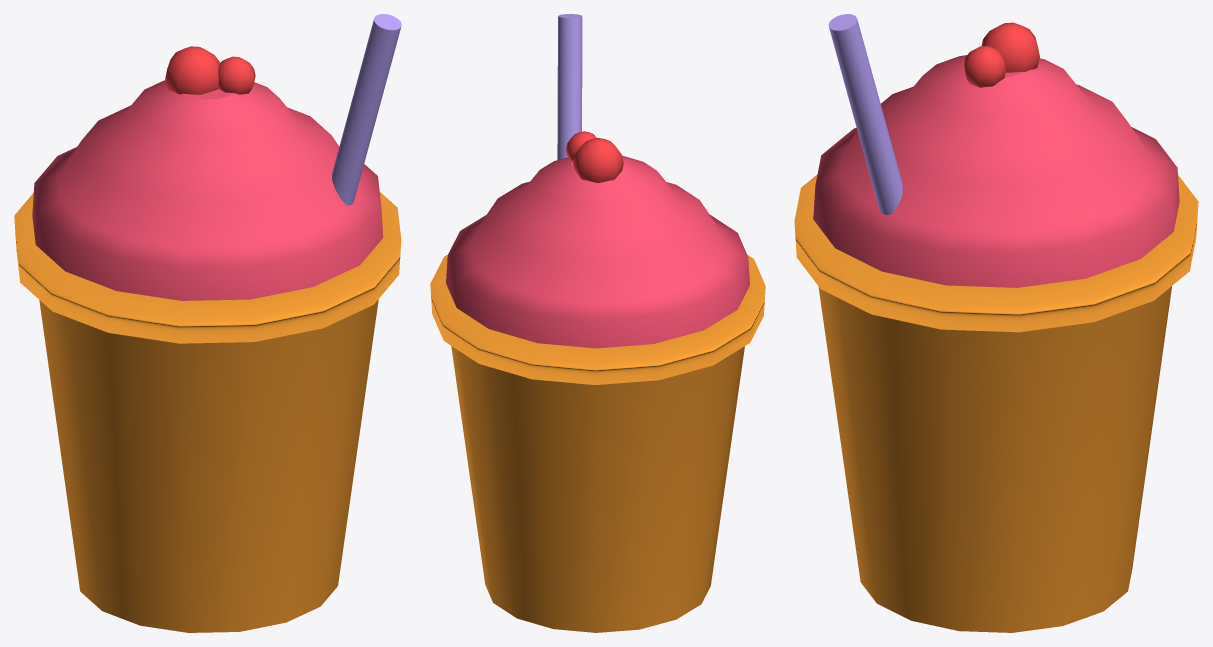
Rendered from ToyObject_175.fbx.
The picture shows the model from 3 angles, left to right: view 1: azimuth 30°, elevation 25°; view 2: azimuth 150°, elevation 25°; view 3: azimuth 270°, elevation 25°; orthographic projection. The views are drawn at different scales.
Parts seen in each view (by area): view 1: object-1.070; view 2: object-1.070; view 3: object-1.070.
Boxes of the visible parts, box(x1,y1,x2,y2) form: object-1.070: box(14, 14, 401, 632); object-1.070: box(430, 14, 765, 632); object-1.070: box(794, 14, 1198, 632).
Bounding box in the file's own units: 0.1037 × 0.1729 × 0.1037.
